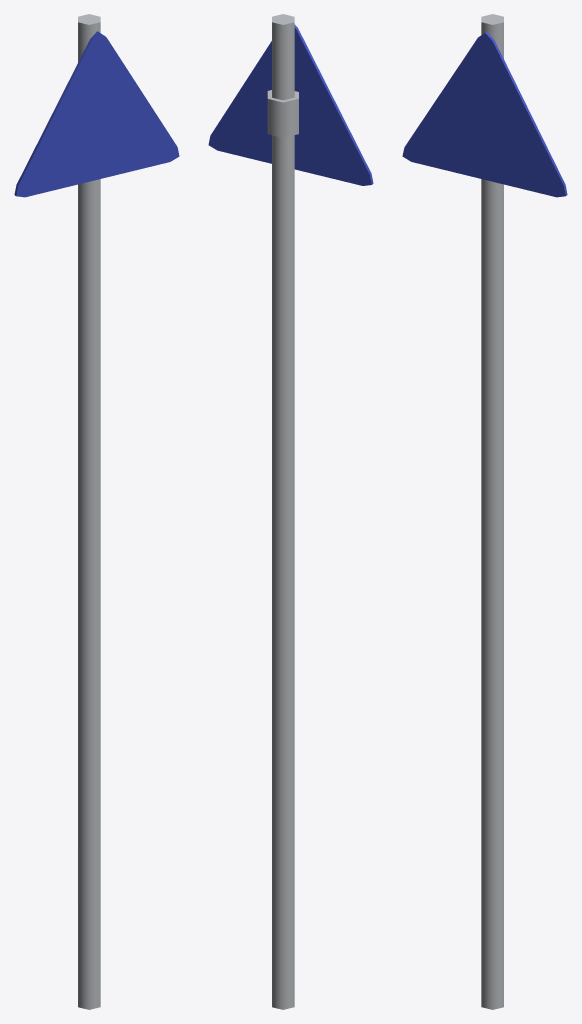
File: SM_trafficsign_01.fbx
3 renders of one model, left to right at view 1: azimuth 30°, elevation 25°; view 2: azimuth 150°, elevation 25°; view 3: azimuth 330°, elevation 25°, orthographic.
Parts seen in each view (by area): view 1: Cylinder043; view 2: Cylinder043; view 3: Cylinder043.
Boxes of the visible parts, bbox=[...] form: Cylinder043: bbox=[14, 14, 179, 1009]; Cylinder043: bbox=[208, 14, 373, 1009]; Cylinder043: bbox=[402, 14, 567, 1009].
Size of the model in its own units: 21.35 by 3.74 by 123.
